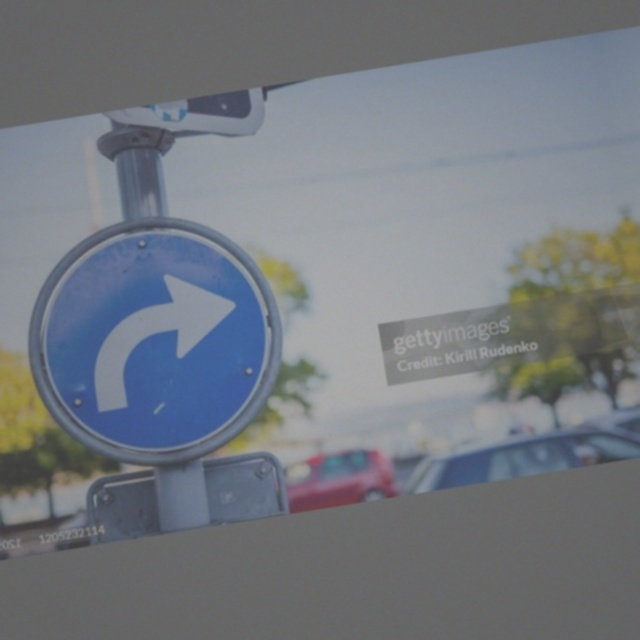Compulsory_Turn_Right_Ahead: (20, 203, 291, 475)
